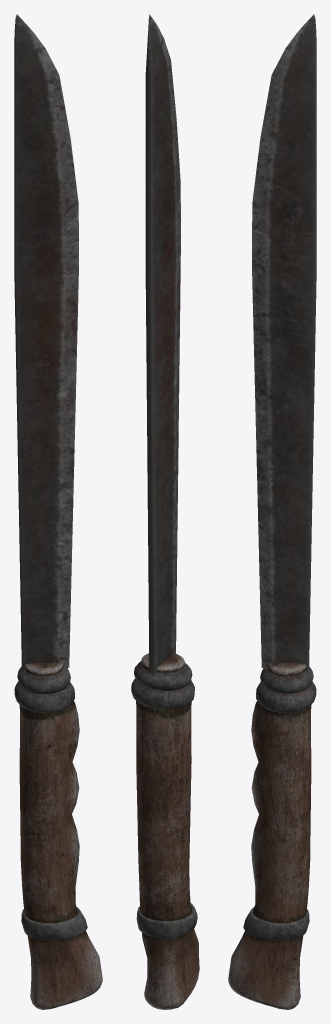
Rendered from machete.glb.
The picture shows the model from 3 angles, left to right: view 1: azimuth 90°, elevation 25°; view 2: azimuth 150°, elevation 25°; view 3: azimuth 270°, elevation 25°; orthographic projection.
Parts seen in each view (by area): view 1: machete; view 2: machete; view 3: machete.
Part boxes in pixels (x1,y1,x2,y2): machete: (14,14,102,1009); machete: (131,14,199,1009); machete: (228,14,316,1009).
Size of the model in its own units: 0.0444 by 0.7548 by 0.0611.
Materials: 1 (1 with a texture image).
